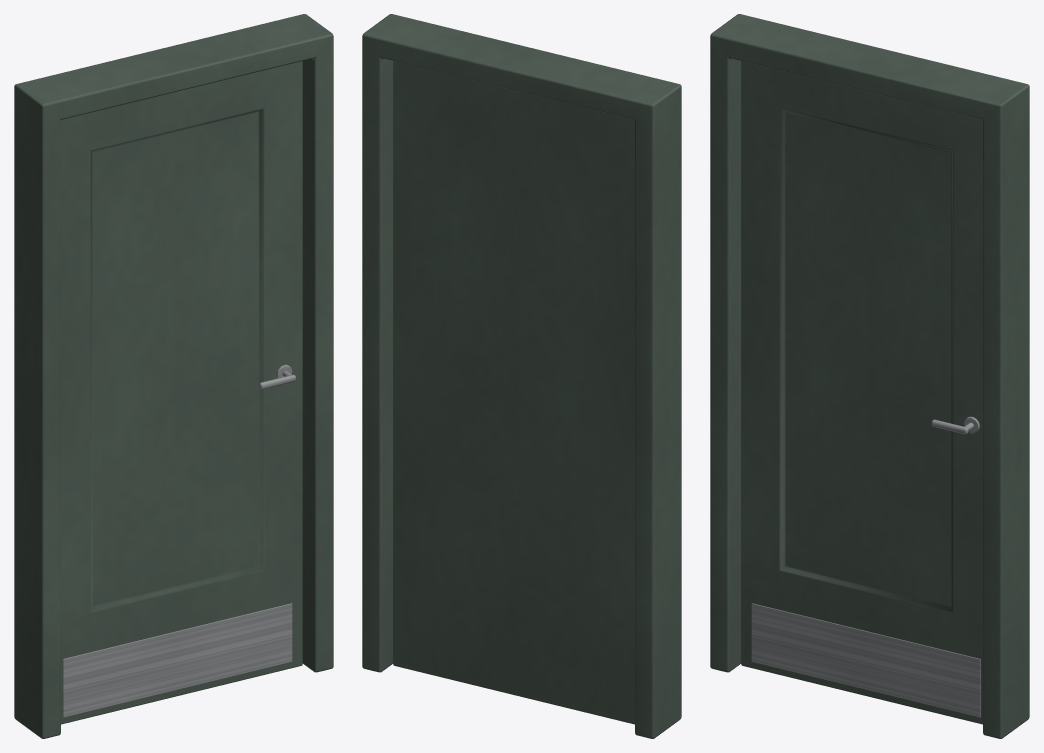
Rendered from shift_door.fbx.
3 views of the same model, side by side, from view 1: azimuth 30°, elevation 25°; view 2: azimuth 150°, elevation 25°; view 3: azimuth 330°, elevation 25° (orthographic).
Parts seen in each view (by area): view 1: Door_Slab, Door_Frame; view 2: Door_Slab, Door_Frame; view 3: Door_Slab, Door_Frame.
Part boxes in pixels (bbox=[...]): Door_Slab: bbox=[61, 61, 302, 724]; Door_Frame: bbox=[14, 14, 333, 738]; Door_Slab: bbox=[393, 61, 634, 724]; Door_Frame: bbox=[362, 14, 681, 738]; Door_Slab: bbox=[741, 61, 982, 724]; Door_Frame: bbox=[710, 14, 1029, 738].
Bounding box in the file's own units: 3.74 × 7.76 × 0.6429.
Materials: 1 (1 with a texture image).
